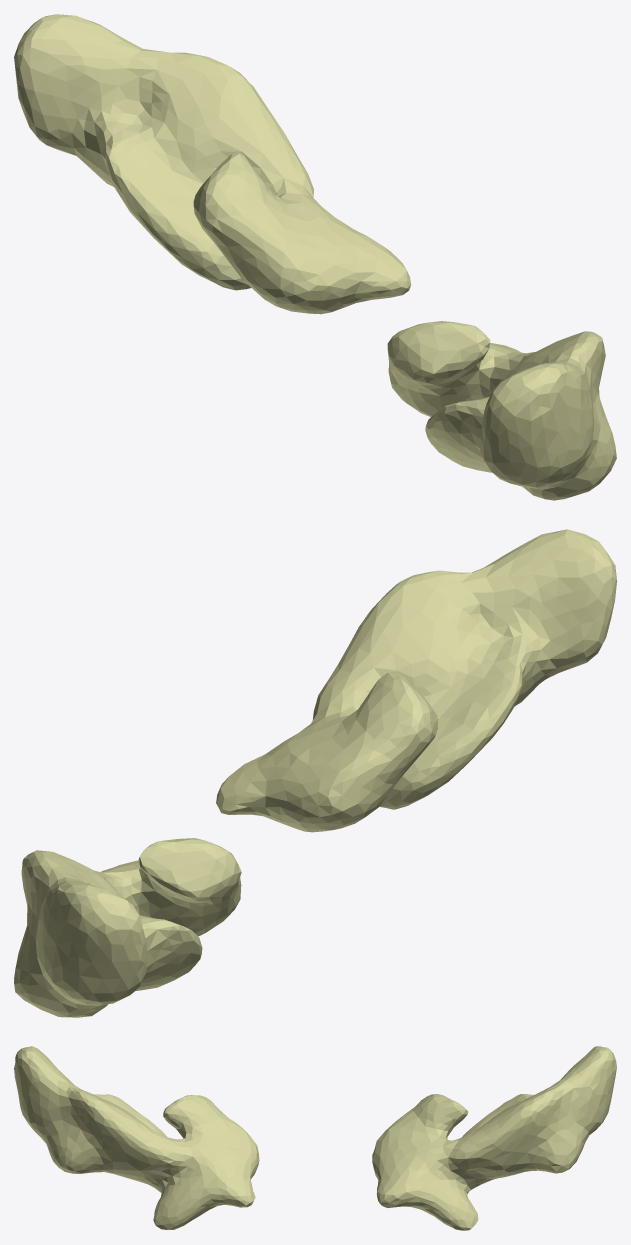
3 views of the same model, one above another, from view 1: azimuth 30°, elevation 25°; view 2: azimuth 150°, elevation 25°; view 3: azimuth 270°, elevation 25° (orthographic). The views are drawn at different scales.
Visible parts, largest first — view 1: 519.obj; view 2: 519.obj; view 3: 519.obj.
Part boxes in pixels (bbox=[...]): 519.obj: bbox=[14, 14, 616, 500]; 519.obj: bbox=[14, 529, 616, 1017]; 519.obj: bbox=[14, 1046, 616, 1230].
Size of the model in its own units: 1408 by 1406 by 5583.
